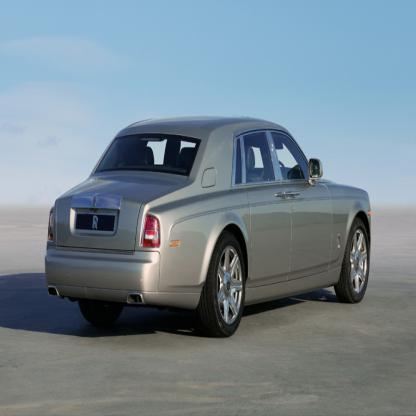Vehicle: (43, 111, 373, 343)
